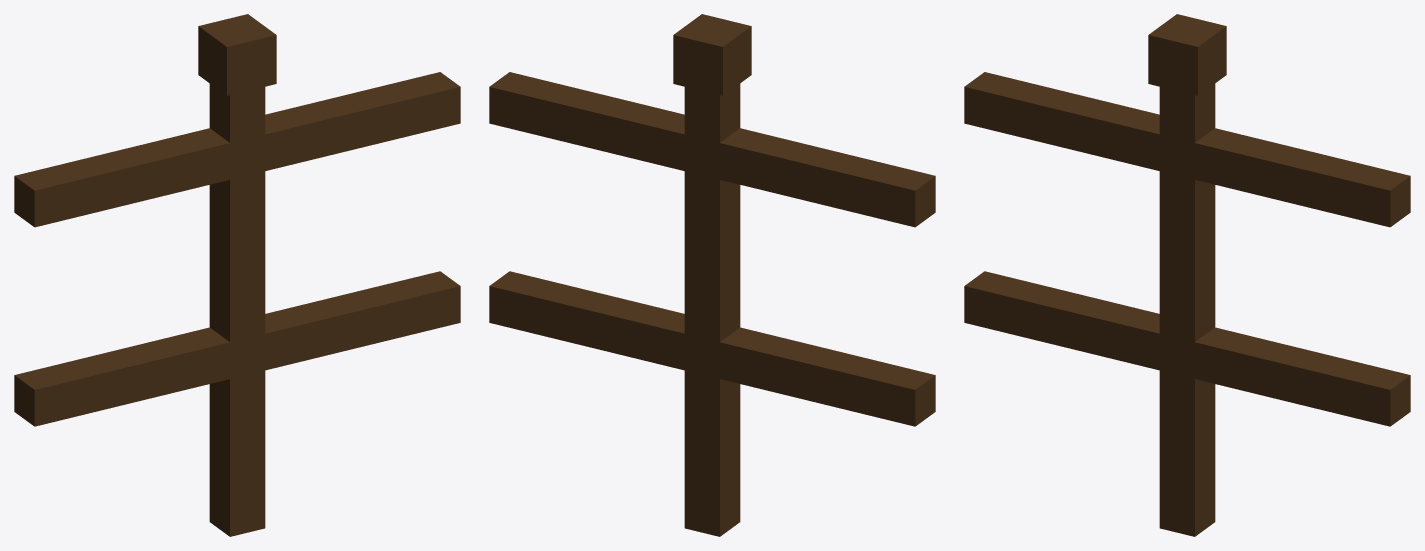
The model's file is fence.fbx.
The picture shows the model from 3 angles, left to right: view 1: azimuth 30°, elevation 25°; view 2: azimuth 150°, elevation 25°; view 3: azimuth 330°, elevation 25°; orthographic projection.
Visible parts, largest first — view 1: Cube.004; view 2: Cube.004; view 3: Cube.004.
Part boxes in pixels (x1,y1,x2,y2): Cube.004: (14,14,460,536); Cube.004: (489,14,935,536); Cube.004: (964,14,1410,536).
Bounding box in the file's own units: 28.35 × 31.46 × 3.3.
